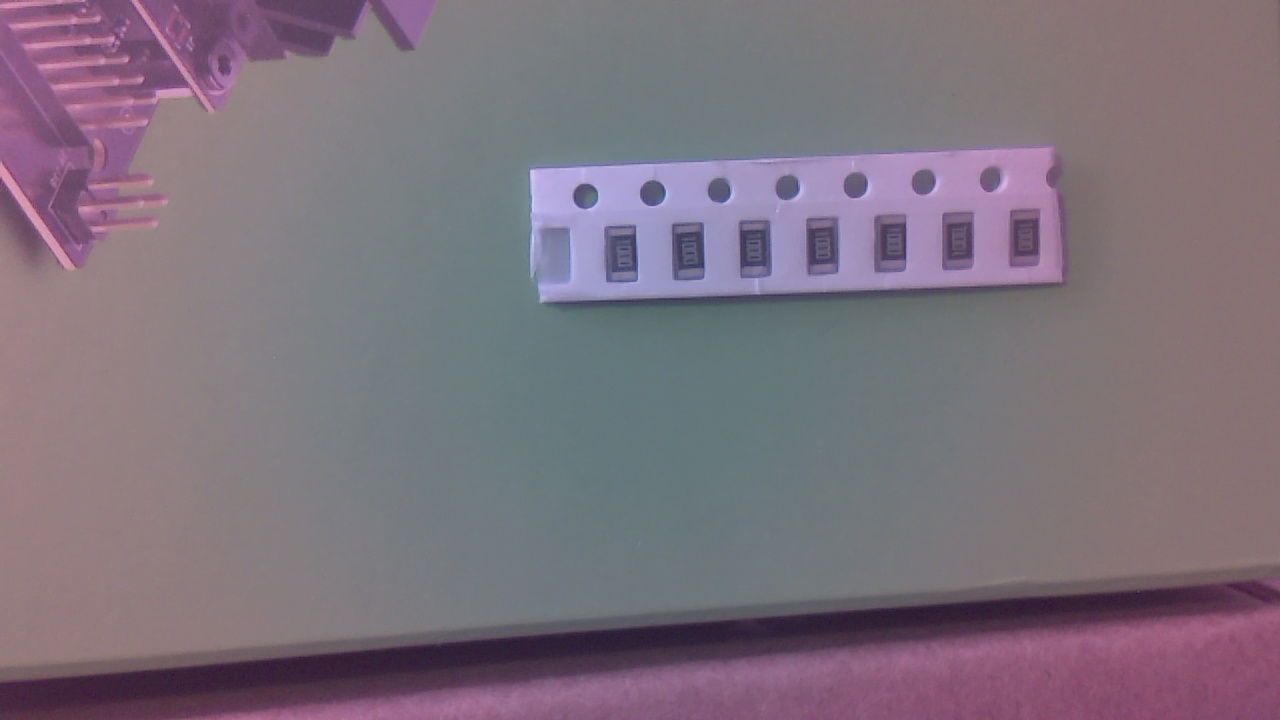Resistor: (879, 218, 914, 276), (610, 231, 645, 288), (947, 218, 979, 278), (1014, 213, 1046, 273), (811, 223, 846, 277), (678, 228, 710, 285), (745, 227, 777, 281)
